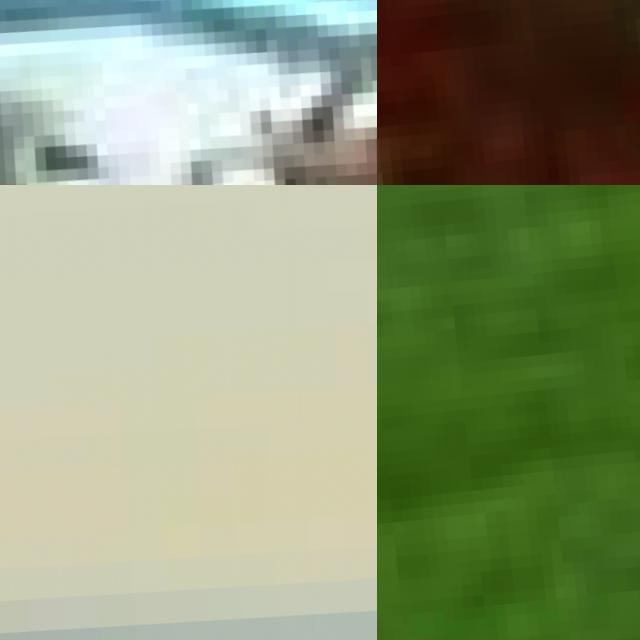drone: (0, 185, 377, 640), (0, 0, 377, 185)
